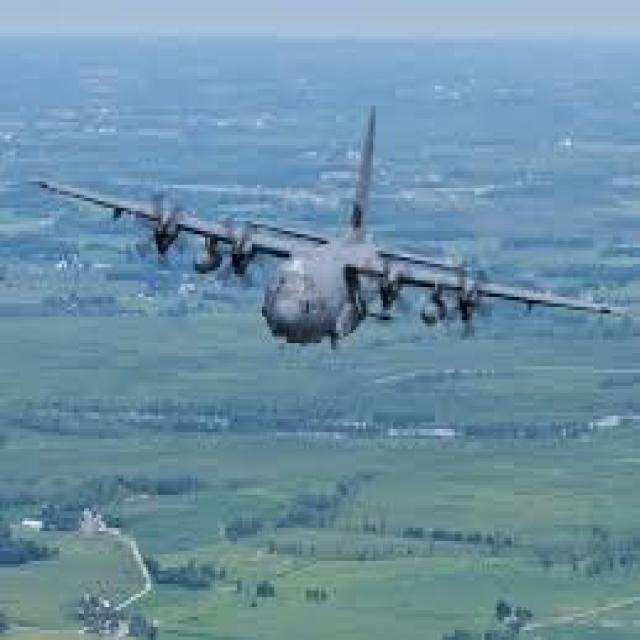C130: (11, 103, 627, 380)
